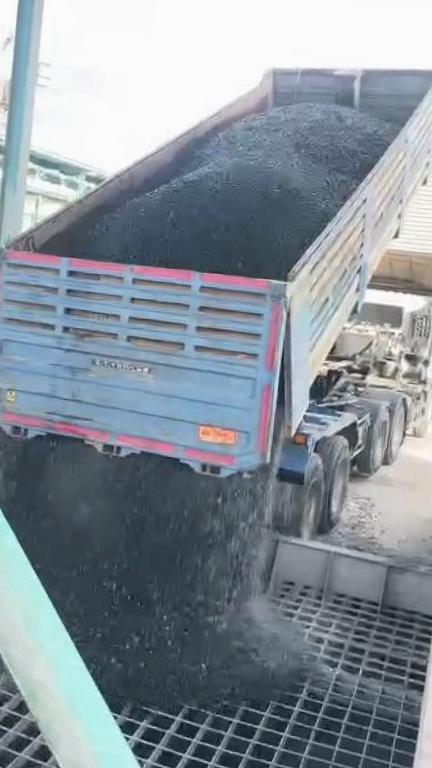gravel: (0, 440, 417, 717), (68, 105, 395, 278)
